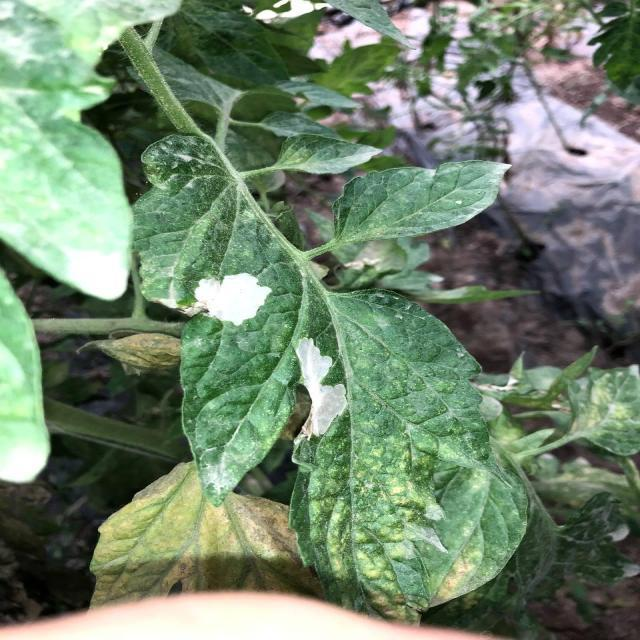Tuta absoluta: (187, 253, 273, 337), (294, 335, 349, 439)
